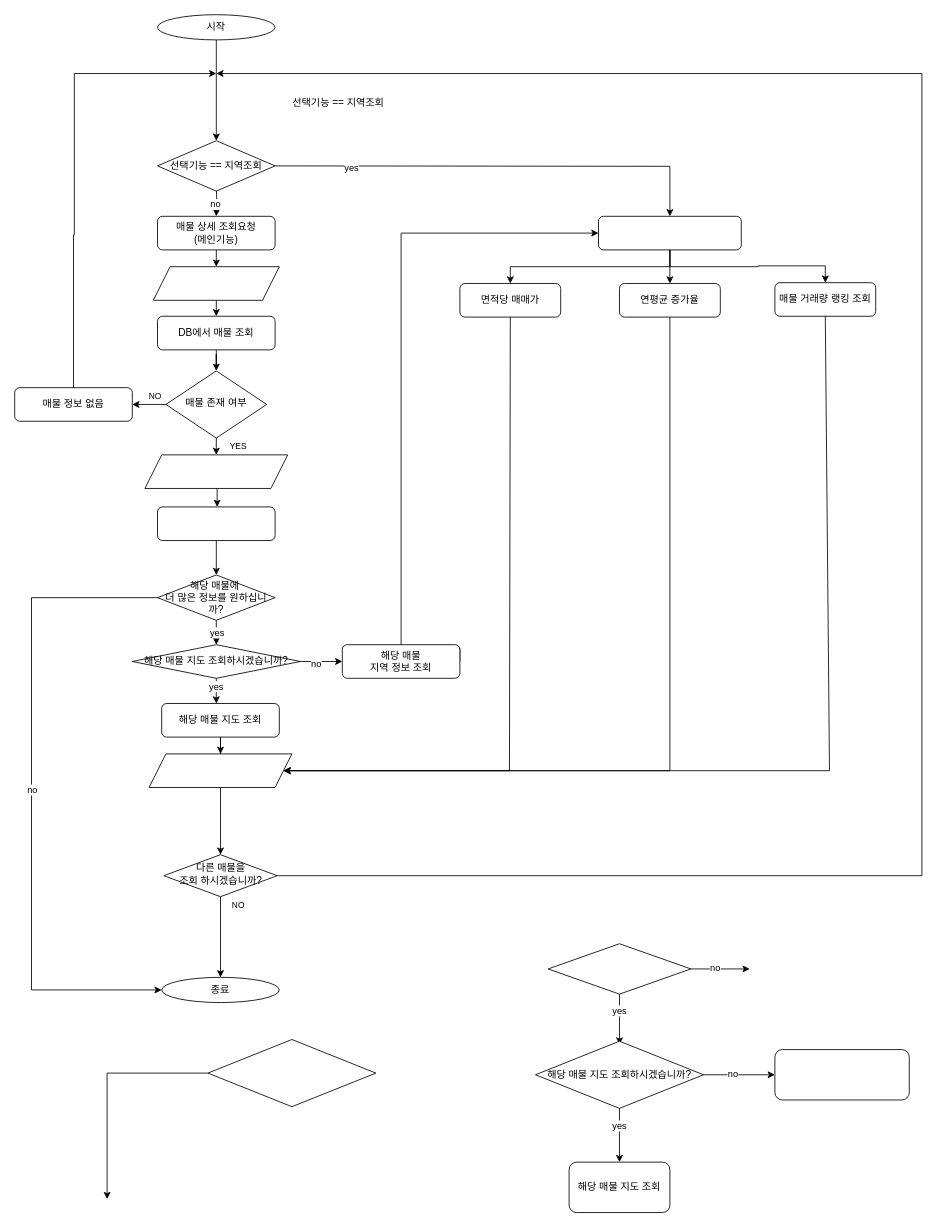
Image size: 943x1227. Some labels were removed from this diagram. The box of each missing label's shape, as (x1, y1, x2, y2) in pixels:
구 & 아파트 입력: (152, 266, 279, 300)
구 별 분석 정보 조회 (서브기능): (598, 215, 741, 250)
더 많은 정보를 원하십니까?: (547, 943, 691, 994)
매물 정보 출력: (148, 753, 292, 788)
매물 정보 출력 (최근거래가): (144, 454, 288, 488)
매물조회여부: (207, 1039, 376, 1107)
조회 매물 DB 저장: (157, 506, 275, 541)
해당매물 지역정보 조회: (774, 1049, 909, 1100)
